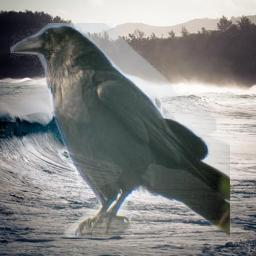Crow: (10, 23, 230, 237)
